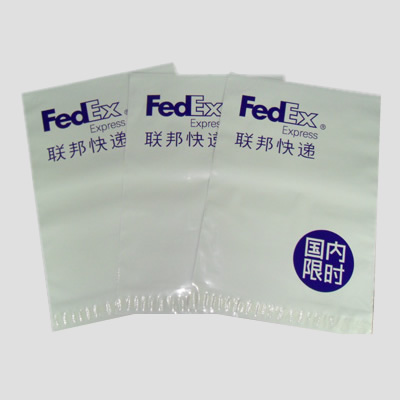Parcel: (190, 72, 398, 335), (23, 61, 177, 329), (119, 75, 281, 313)
